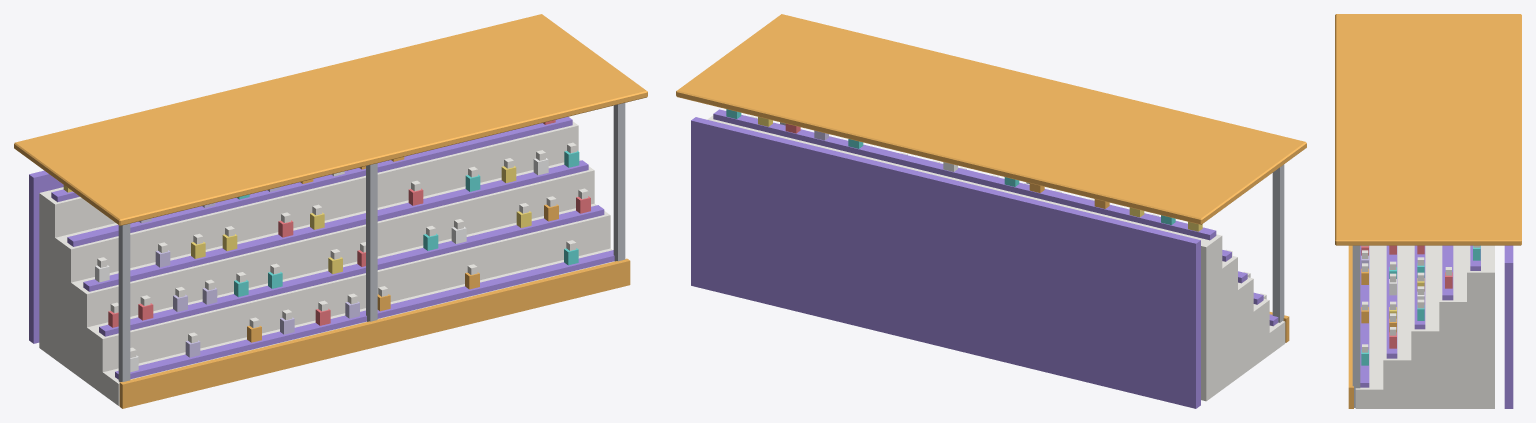
The model's file is grandstand.glb.
The picture shows the model from 3 angles, left to right: view 1: azimuth 30°, elevation 25°; view 2: azimuth 150°, elevation 25°; view 3: azimuth 270°, elevation 25°; orthographic projection. The views are drawn at different scales.
Parts seen in each view (by area): view 1: grandstand; view 2: grandstand; view 3: grandstand.
Part boxes in pixels (left/top/right/bottom): grandstand: left=14, top=14, right=647, bottom=408; grandstand: left=676, top=14, right=1306, bottom=408; grandstand: left=1335, top=14, right=1521, bottom=408.
Size of the model in its own units: 25 by 8.9 by 8.7.
